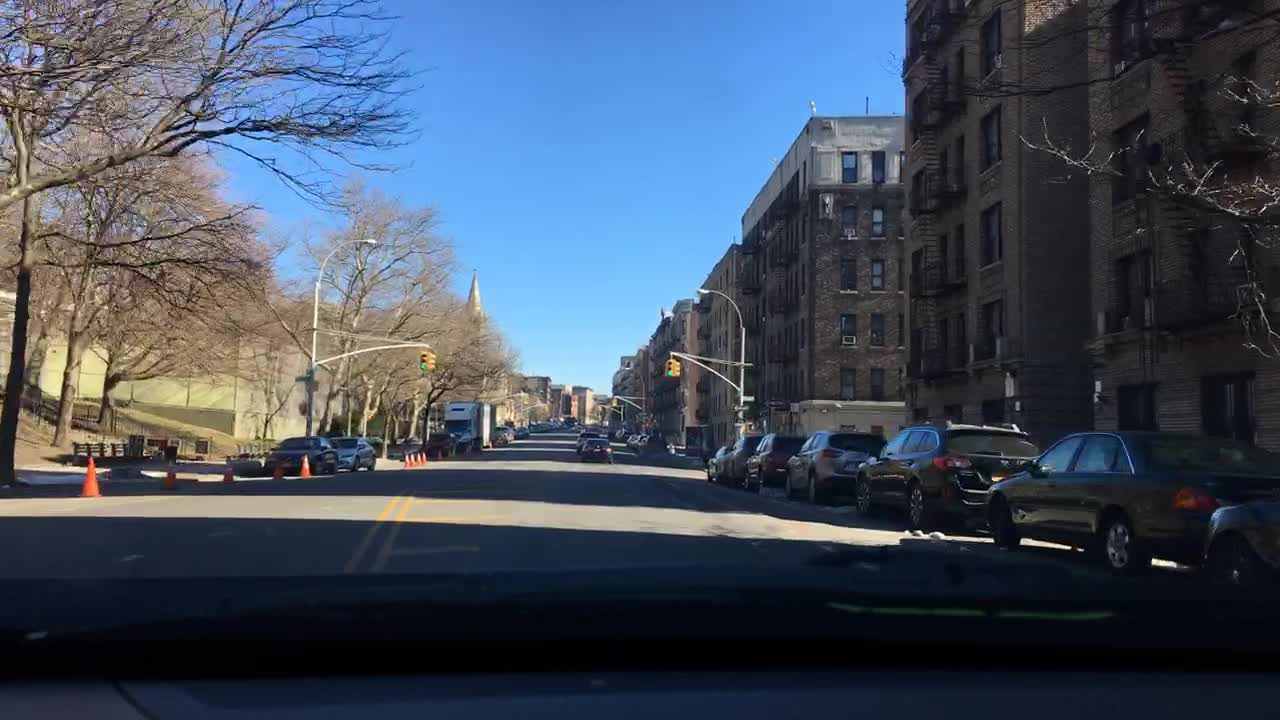bus: (794, 400, 907, 437)
car: (982, 430, 1277, 577), (855, 421, 1039, 528), (783, 429, 887, 504), (1197, 498, 1277, 580), (739, 434, 807, 490), (268, 437, 338, 475), (720, 432, 764, 484), (329, 435, 377, 472), (706, 444, 733, 483), (578, 438, 614, 465), (430, 432, 460, 455), (574, 430, 599, 451), (495, 424, 516, 438), (491, 432, 508, 447), (635, 433, 648, 448), (516, 424, 528, 438), (626, 433, 639, 445), (530, 424, 545, 433)
traffic light: (418, 352, 427, 371), (427, 352, 436, 370), (665, 359, 673, 377), (675, 361, 682, 377), (745, 420, 754, 432)
traffic sign: (729, 403, 749, 410), (293, 375, 313, 382), (305, 382, 317, 391), (741, 394, 755, 400)
truck: (442, 400, 489, 450)
